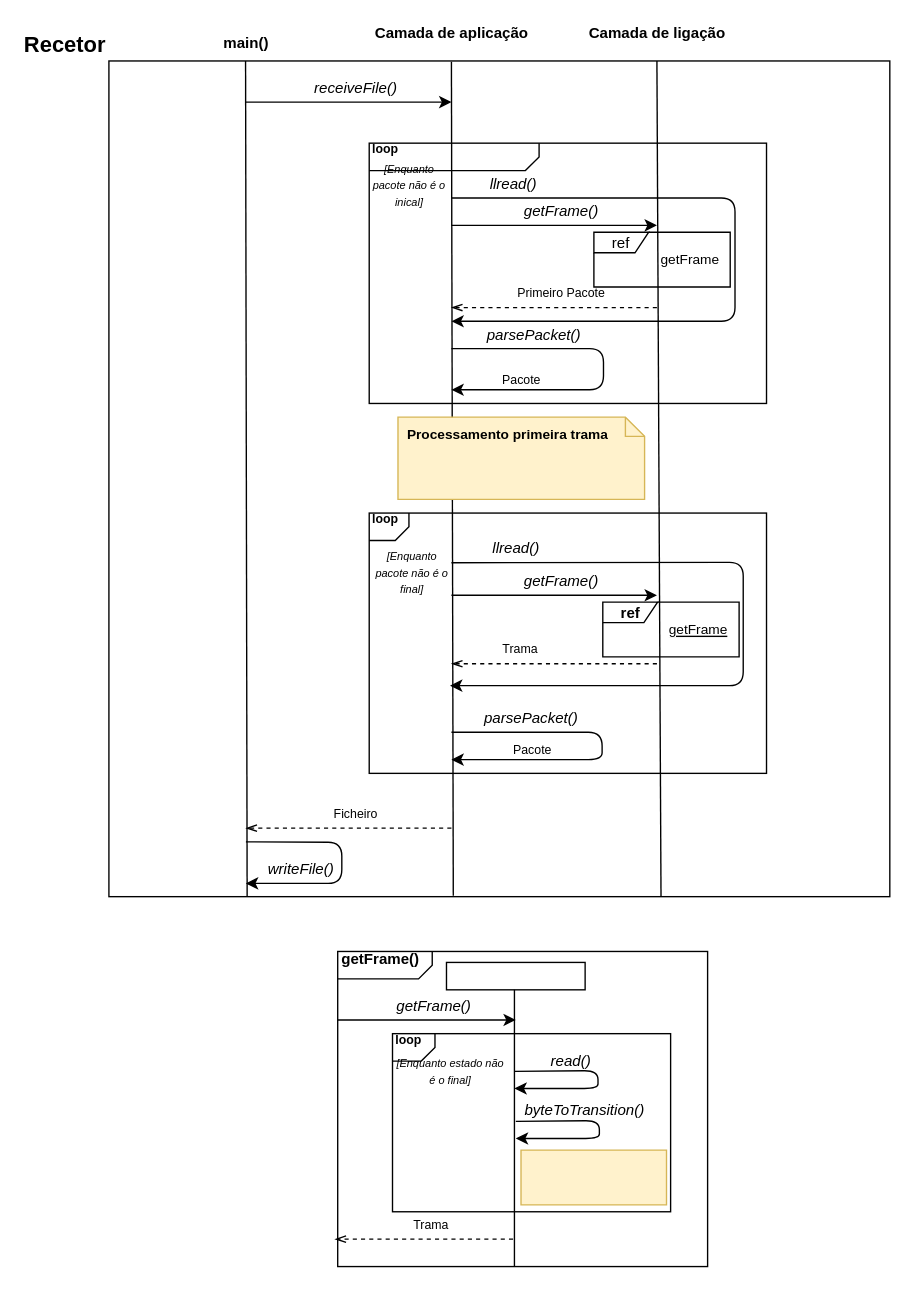
This 914x1292 diagram has some shape labels left out. The shapes that lost their labels are listed below. From the top down, each one's centre as x and y in pixels, then its label:
At (521,457): "Alocação do ficheiro e leitura do seu nome para a camada de aplicação".
At (515,975): ":Camada de ligação".
At (593,1177): "Atualizar estado, destuffing e adicionar a vetor de dados".
